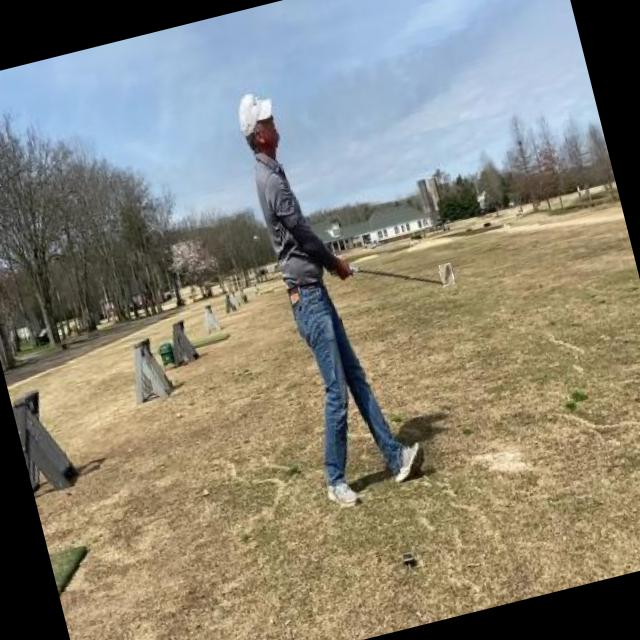club head: (438, 262, 455, 286)
